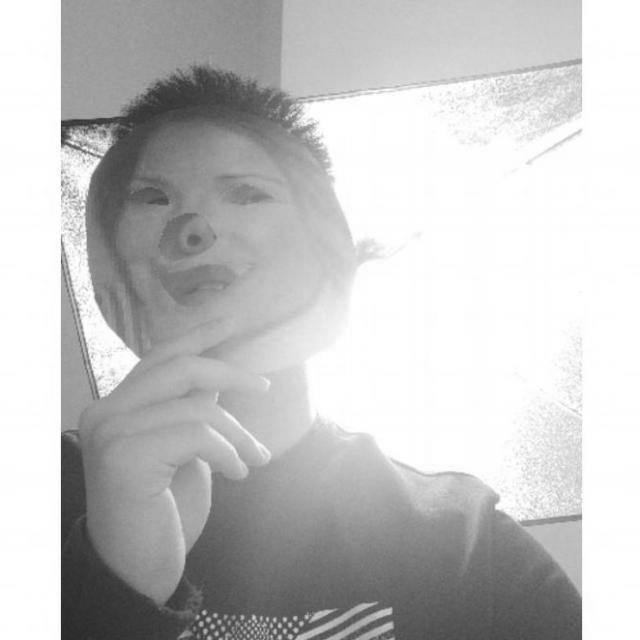fake: (84, 105, 357, 368)
